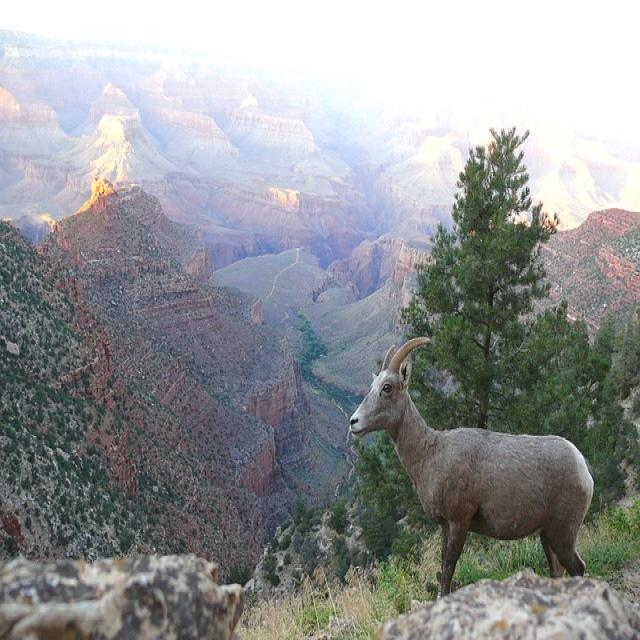goat: (350, 337, 594, 596)
